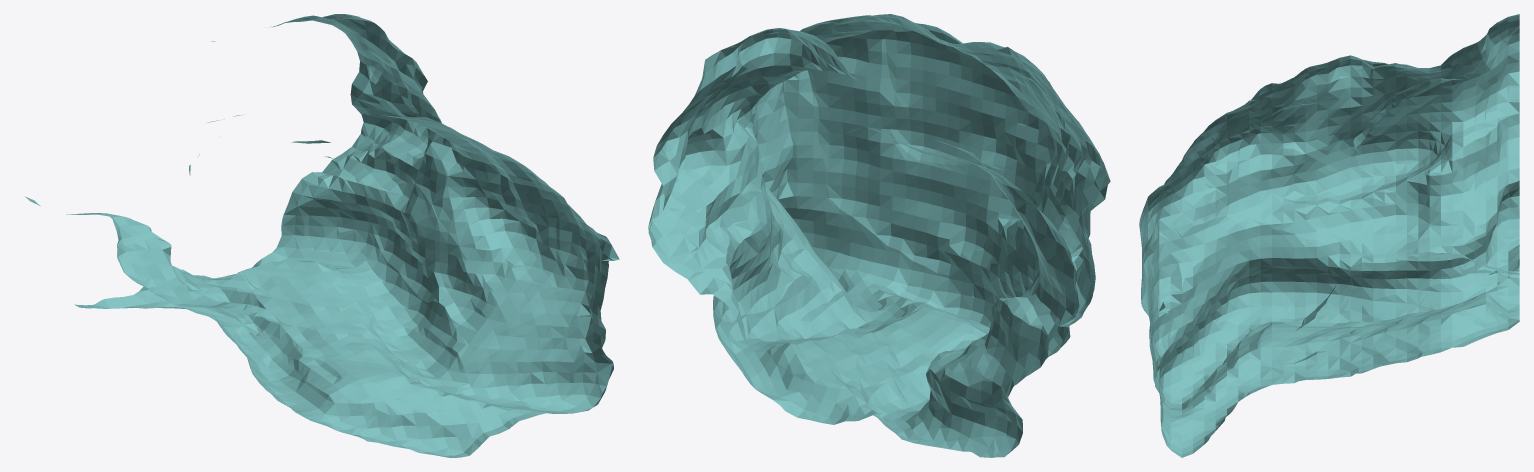
Rendered from 050__RH_Per_S_DtP__full_20fps__surface.glb.
3 views of the same model, side by side, from view 1: azimuth 30°, elevation 25°; view 2: azimuth 150°, elevation 25°; view 3: azimuth 270°, elevation 25° (orthographic). The views are drawn at different scales.
Parts seen in each view (by area): view 1: world; view 2: world; view 3: world.
Boxes of the visible parts, box(x1,y1,x2,y2) form: world: box(25, 14, 619, 457); world: box(648, 14, 1110, 457); world: box(1139, 14, 1519, 457).
Size of the model in its own units: 173 by 128 by 135.
